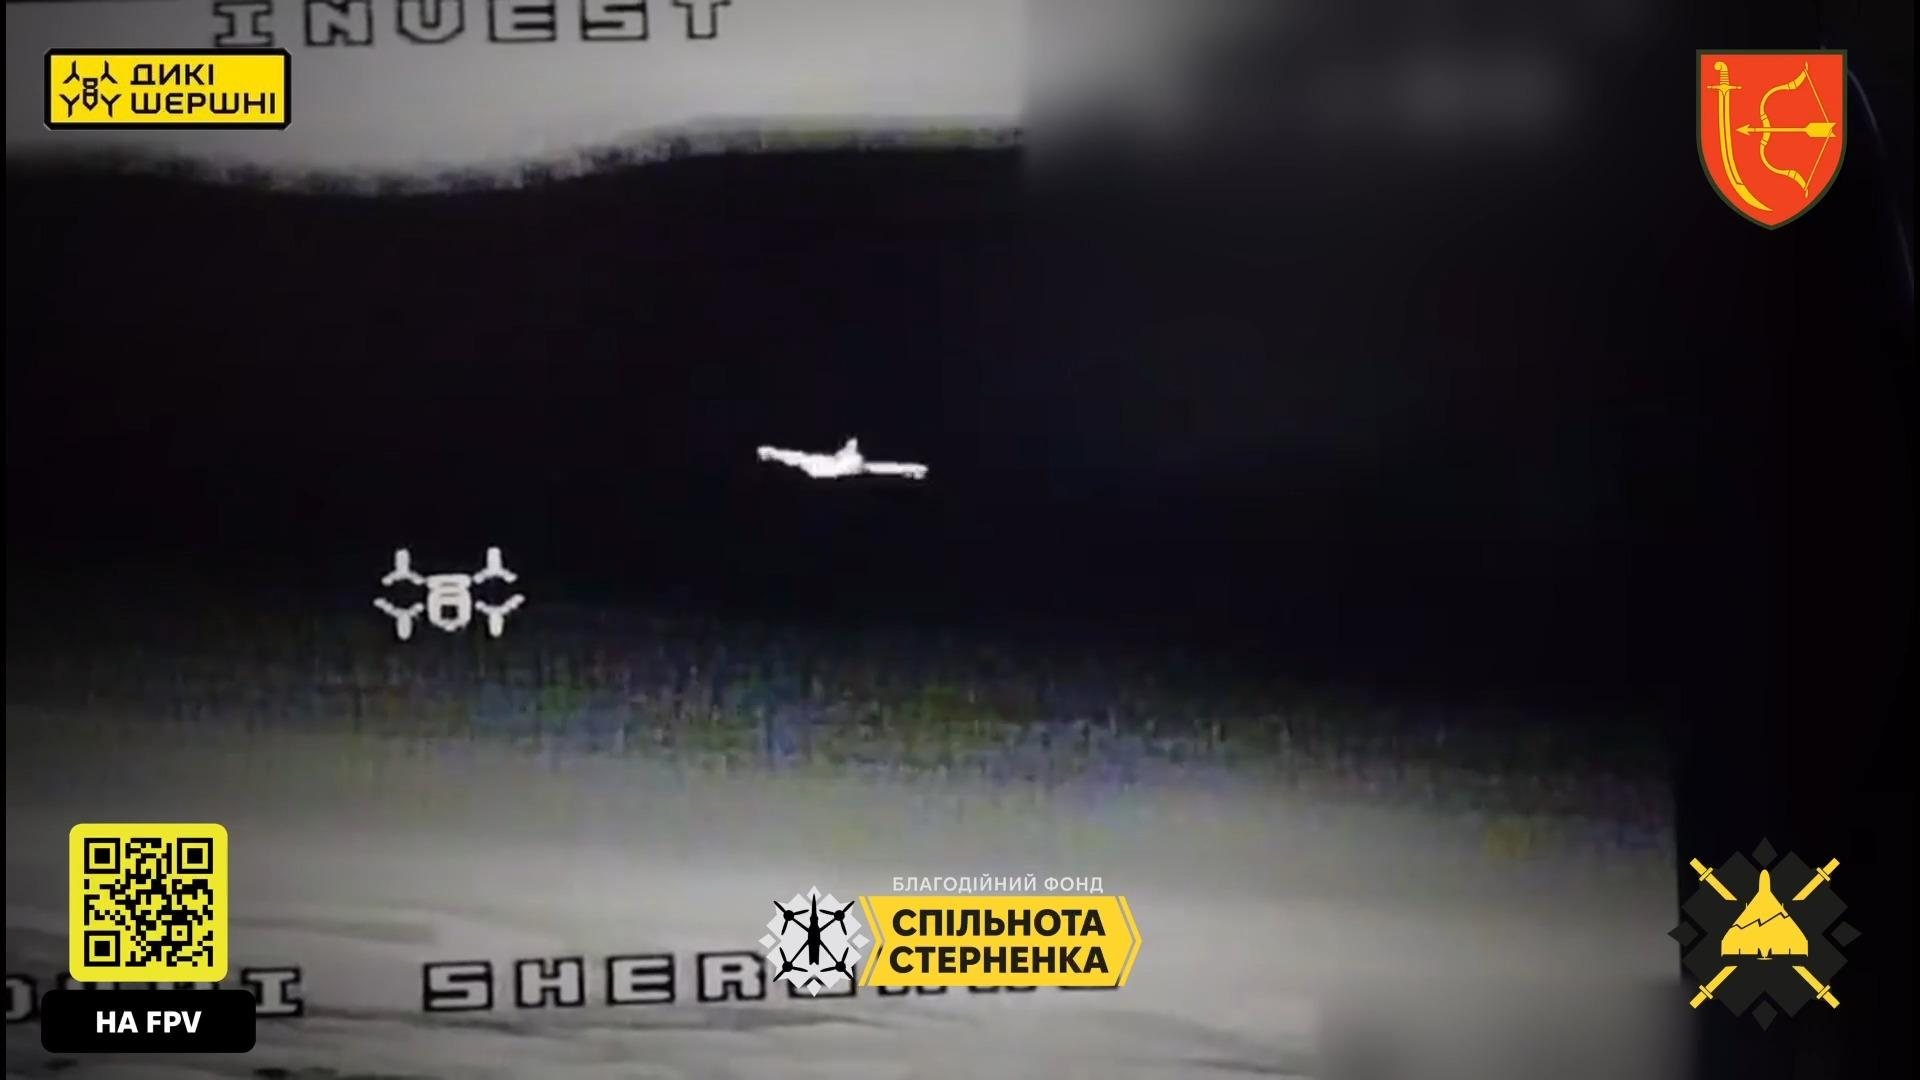Gerbera: (756, 435, 931, 483)
